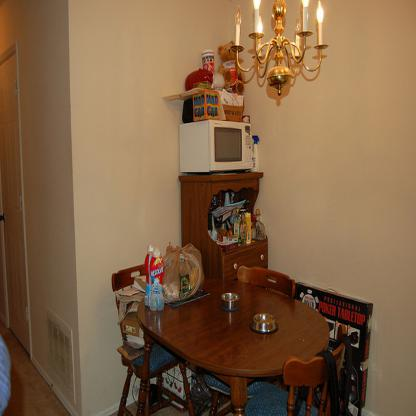backpack: (314, 333, 355, 416)
